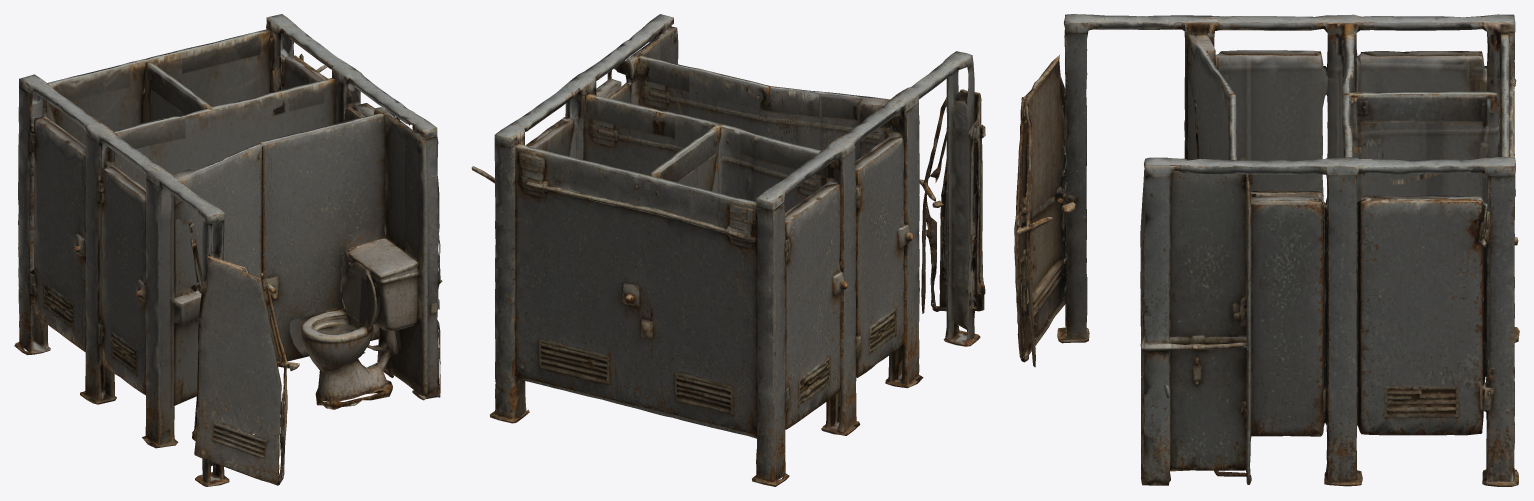
Rendered from BKI_ToiletStalls.fbx.
The picture shows the model from 3 angles, left to right: view 1: azimuth 30°, elevation 25°; view 2: azimuth 150°, elevation 25°; view 3: azimuth 270°, elevation 25°; orthographic projection. The views are drawn at different scales.
Visible parts, largest first — view 1: texture_mapping; view 2: texture_mapping; view 3: texture_mapping.
Boxes of the visible parts, bbox=[...] form: texture_mapping: bbox=[14, 14, 442, 486]; texture_mapping: bbox=[471, 14, 985, 486]; texture_mapping: bbox=[1014, 14, 1519, 486].
Size of the model in its own units: 0.8501 by 0.9997 by 0.6984.
1 material, 1 textured.
